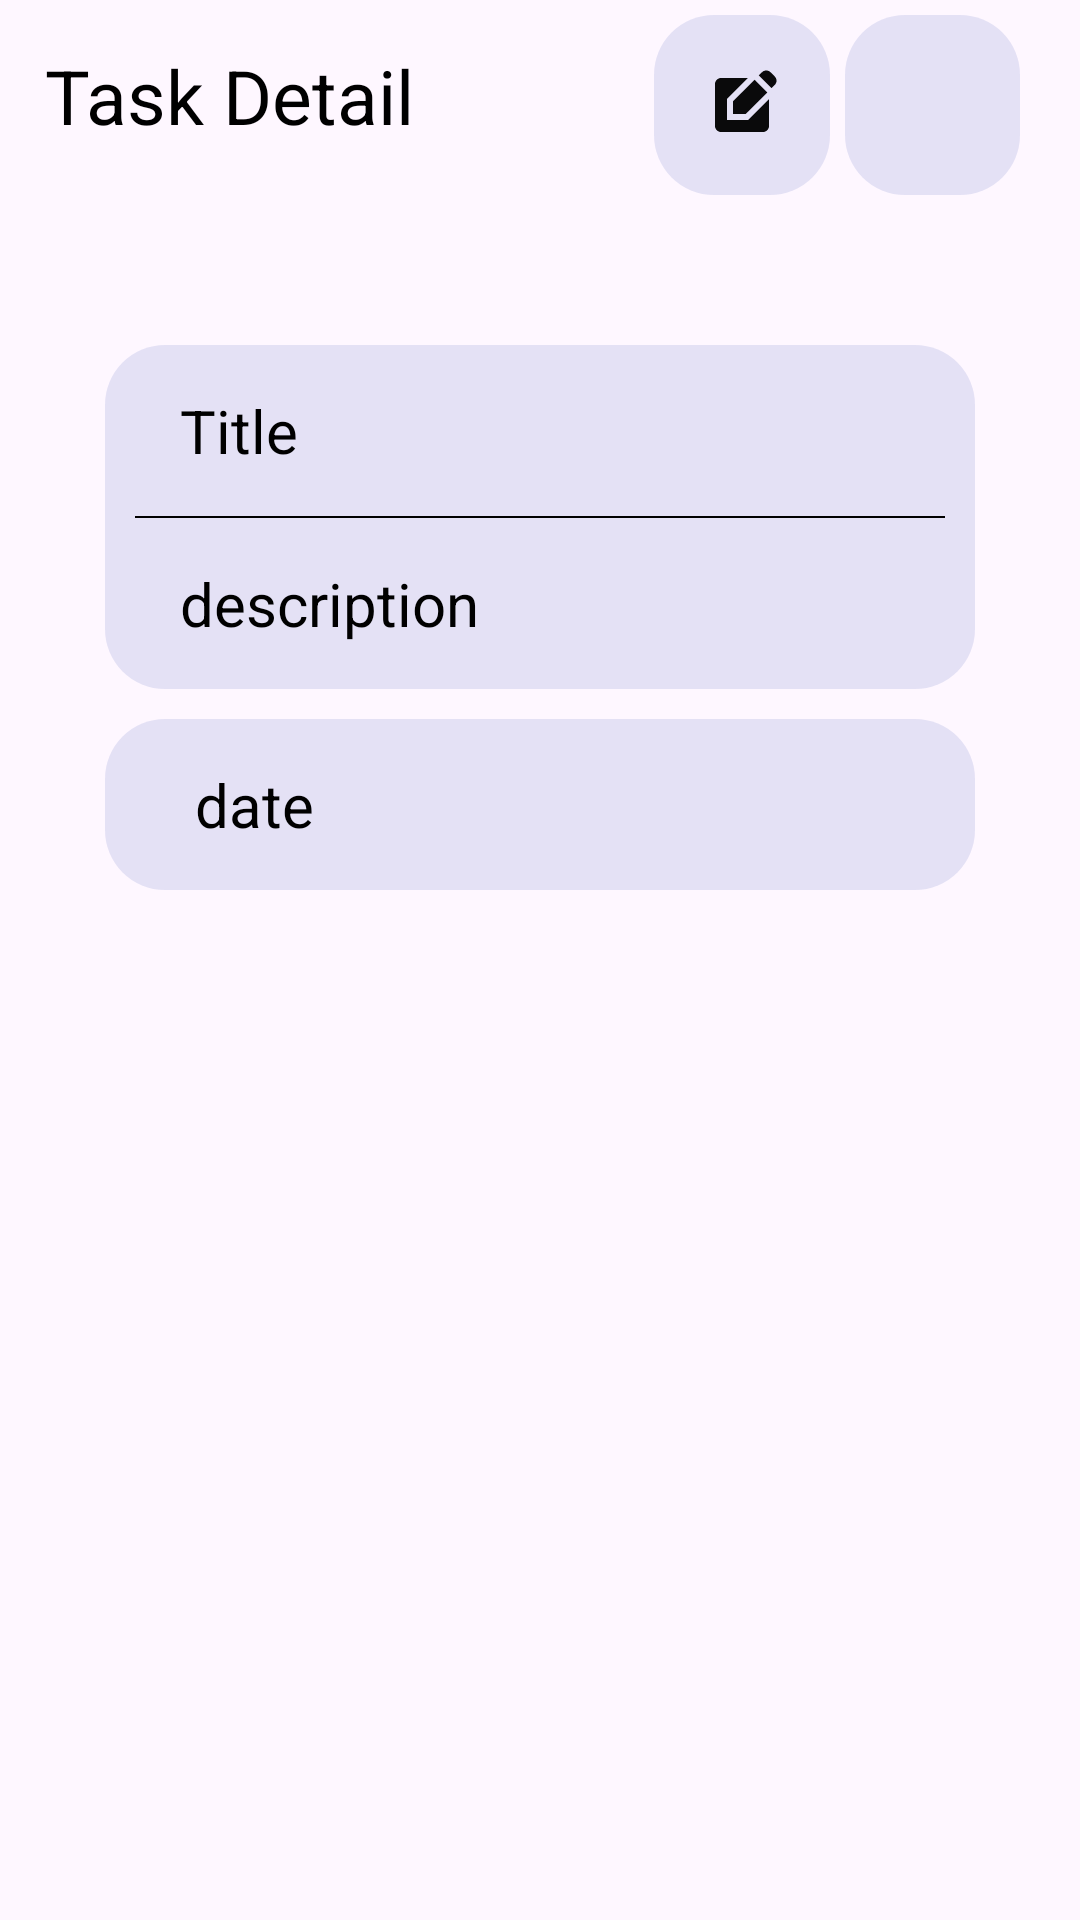

Screen size 1080x1920. Icon name, then its box in pixels as (x1, y1, x2, y2):
edit square: (654, 15, 830, 195)
